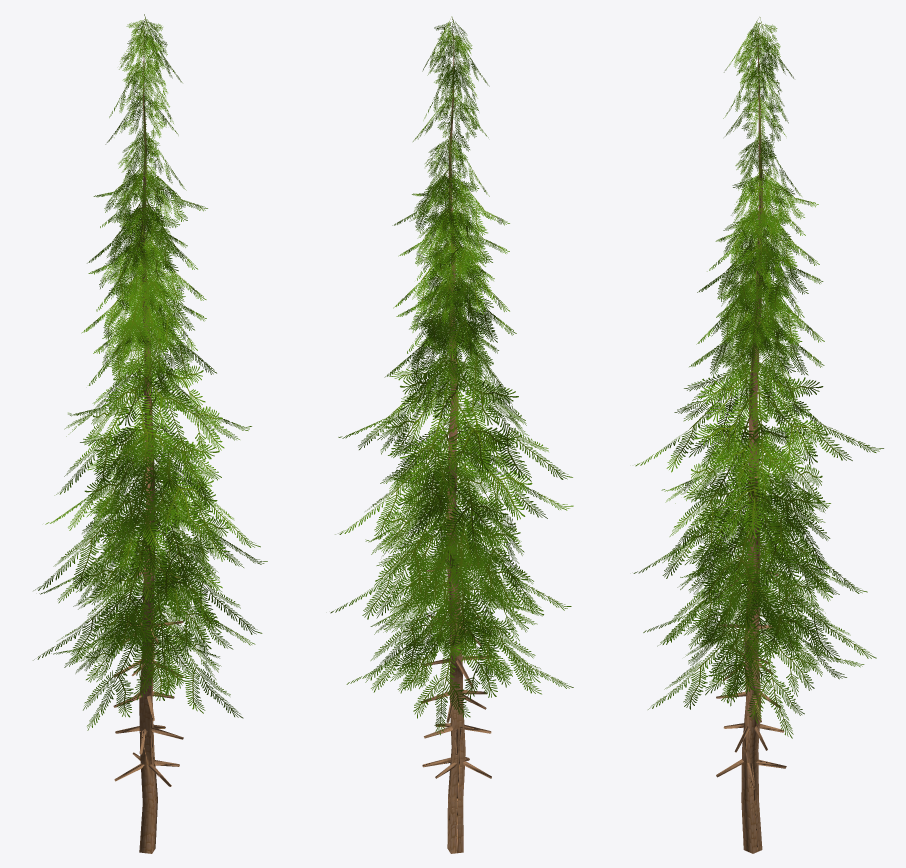
File: spruce_trees.003.glb
The picture shows the model from 3 angles, left to right: view 1: azimuth 30°, elevation 25°; view 2: azimuth 150°, elevation 25°; view 3: azimuth 270°, elevation 25°; orthographic projection.
Parts seen in each view (by area): view 1: spruce_trees.003; view 2: spruce_trees.003; view 3: spruce_trees.003.
Part boxes in pixels (x1,y1,x2,y2): spruce_trees.003: [33, 14, 267, 853]; spruce_trees.003: [330, 16, 573, 853]; spruce_trees.003: [633, 17, 883, 853].
Size of the model in its own units: 4.38 by 15.15 by 4.44.
1 material, 1 textured.
